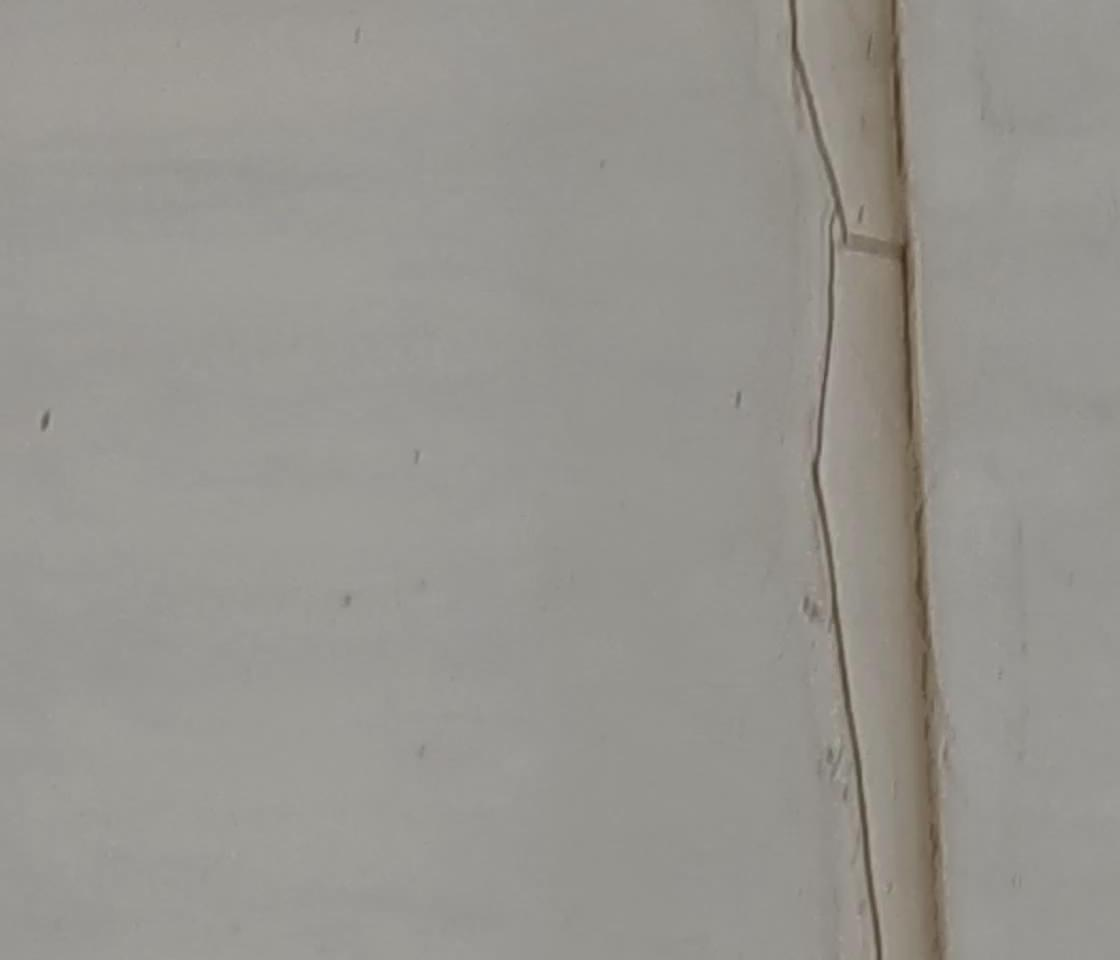scratch: (26, 399, 62, 440), (720, 382, 753, 414)
